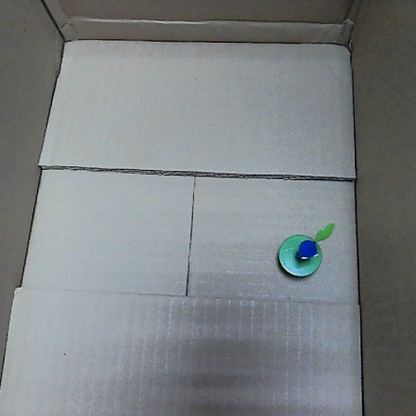leafairy: (275, 218, 336, 279)
